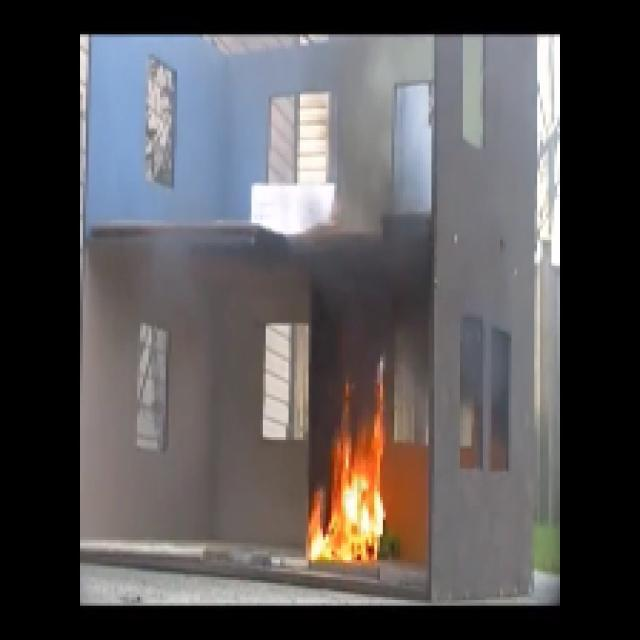Fire: (305, 420, 389, 570)
